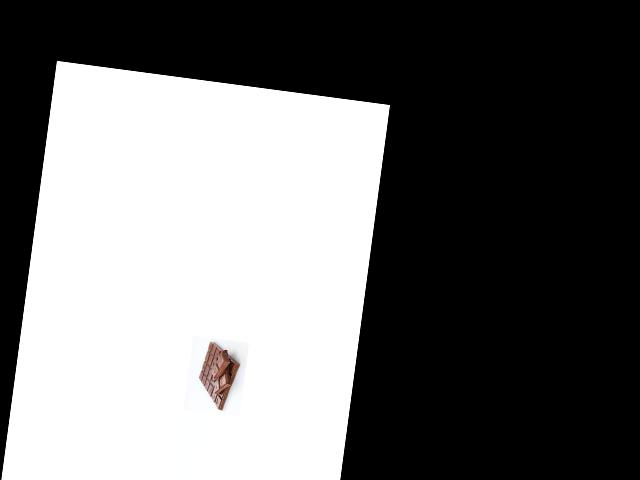chocolate: (191, 339, 245, 413)
